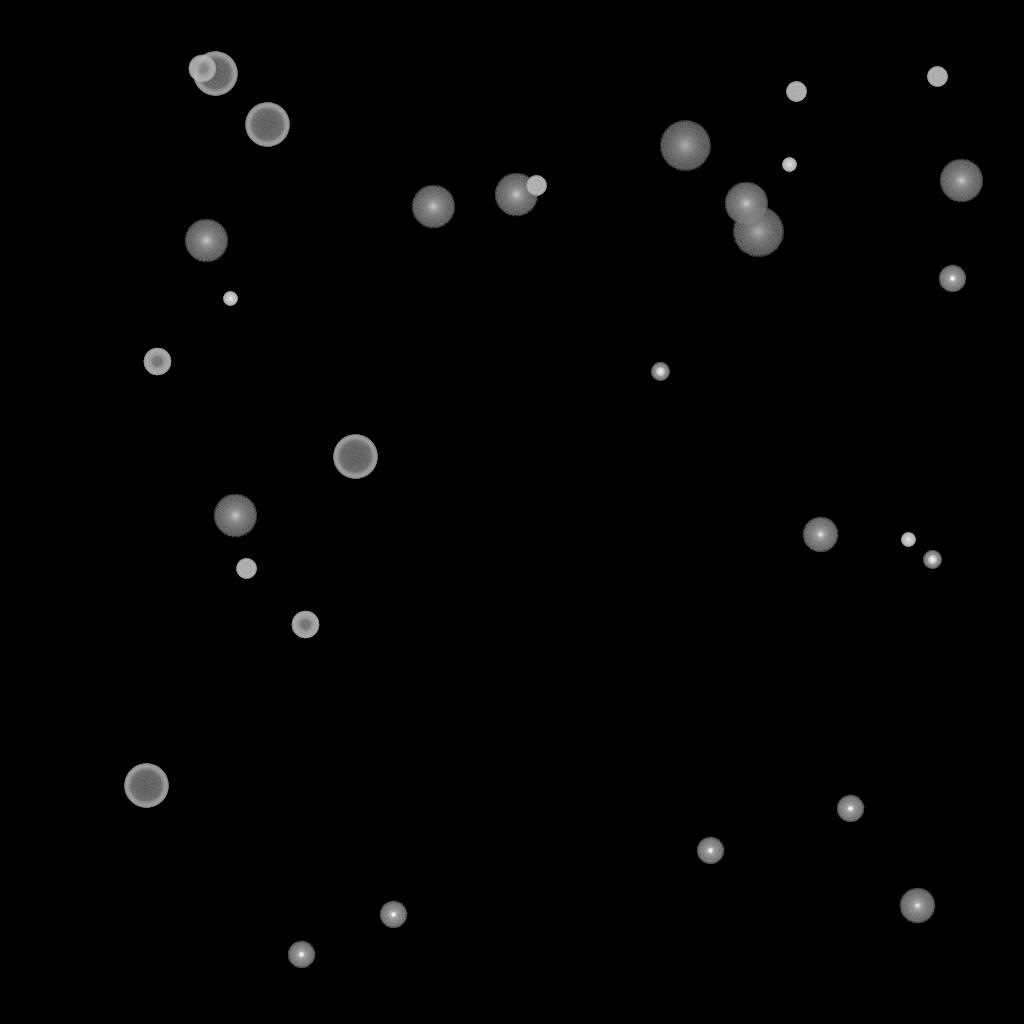depth:-10: (287, 941, 315, 969), (836, 795, 864, 823), (379, 901, 407, 929), (696, 837, 724, 865), (938, 265, 966, 293)
depth:-20: (651, 363, 669, 381), (923, 551, 941, 569)
depth:-30: (782, 158, 796, 172), (901, 533, 915, 547), (223, 292, 237, 306)
depth:-40: (236, 559, 256, 579), (526, 176, 546, 196), (927, 67, 947, 87), (786, 82, 806, 102)
depth:-50: (143, 348, 171, 376), (188, 55, 216, 83), (291, 611, 319, 639)
depth:-70: (333, 435, 377, 479), (193, 52, 237, 96), (124, 764, 168, 808), (245, 103, 289, 147)
depth:0: (899, 888, 935, 924), (802, 517, 838, 553)
depth:10: (213, 494, 257, 538), (939, 159, 983, 203), (411, 185, 455, 229), (494, 173, 538, 217), (184, 219, 228, 263), (724, 182, 768, 226)
depth:20: (732, 207, 784, 257), (659, 121, 711, 171)
